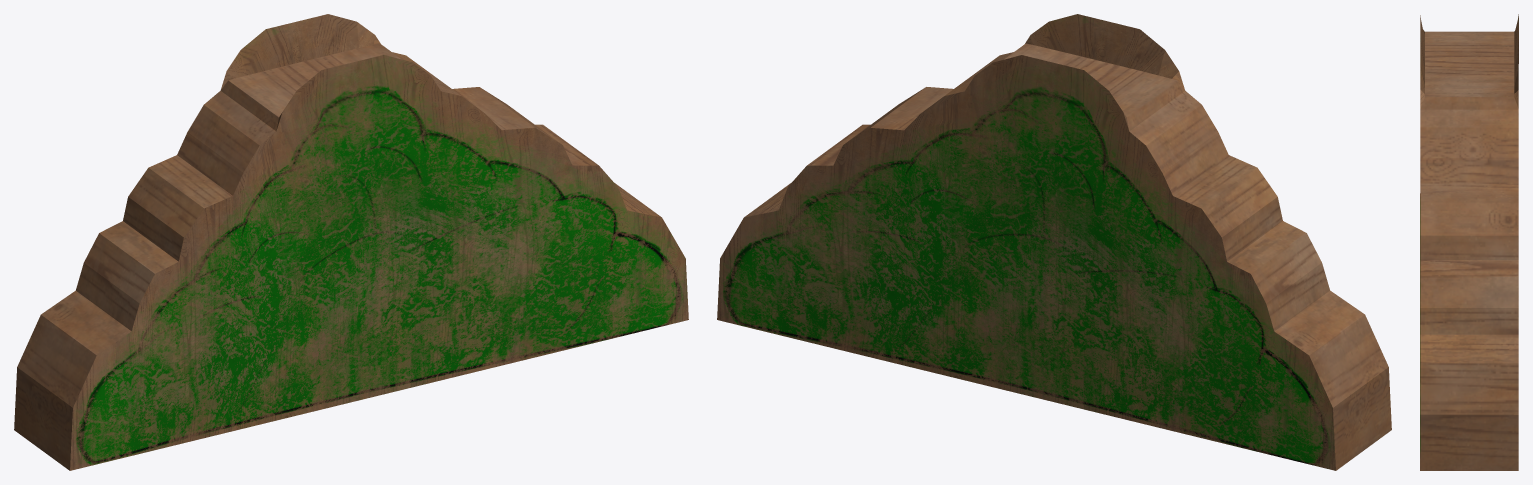
The model's file is Arbusto.fbx.
3 views of the same model, side by side, from view 1: azimuth 30°, elevation 25°; view 2: azimuth 150°, elevation 25°; view 3: azimuth 270°, elevation 25° (orthographic). The views are drawn at different scales.
Parts seen in each view (by area): view 1: Arbusto; view 2: Arbusto; view 3: Arbusto.
Part boxes in pixels (x1,y1,x2,y2): Arbusto: (14,14,688,470); Arbusto: (717,14,1391,470); Arbusto: (1420,14,1518,470).
Size of the model in its own units: 330 by 173 by 51.66.
Materials: 1 (1 with a texture image).
